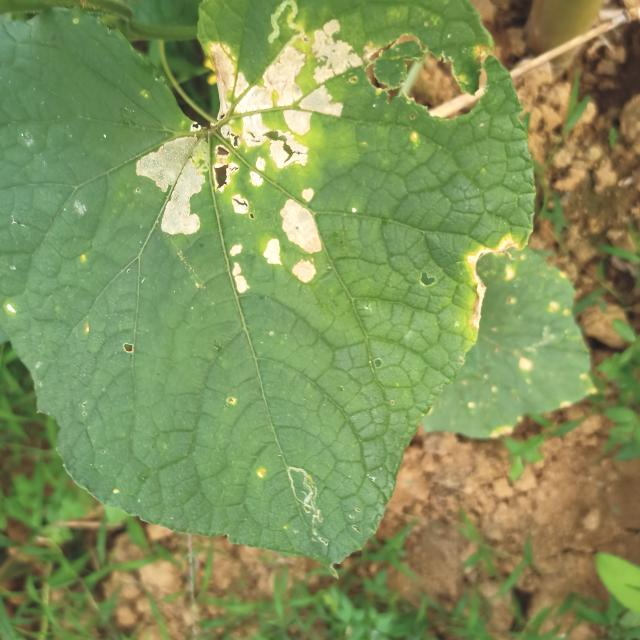disease_cucumber: (134, 15, 367, 302)
